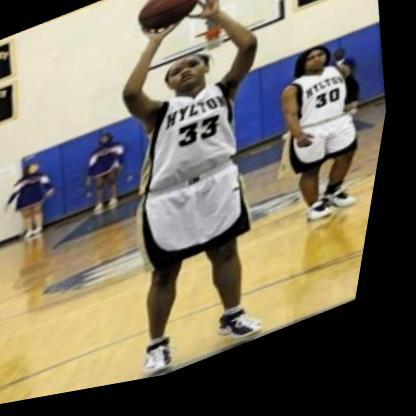basketball: (129, 0, 217, 53)
